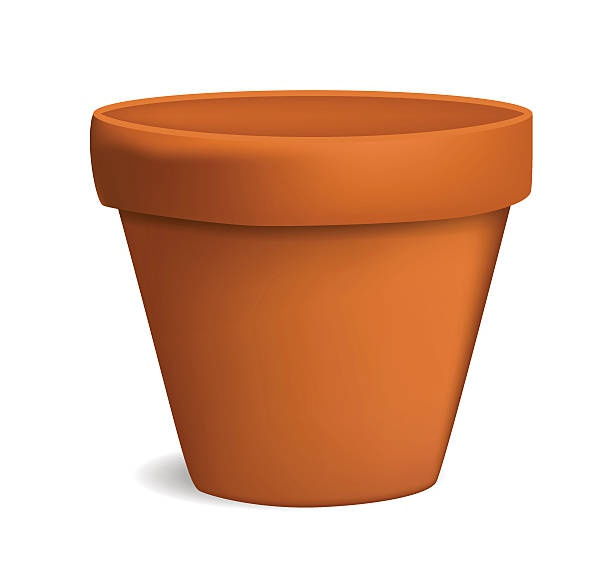flowerpot: (88, 90, 534, 507)
